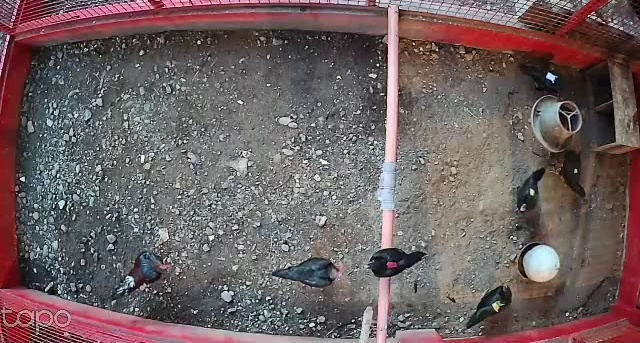Chicken: (546, 141, 590, 199), (364, 240, 426, 279), (465, 281, 514, 330), (519, 58, 564, 103), (507, 164, 545, 217)
Rooster: (114, 246, 173, 299)
Saddle_Color_Red: (386, 261, 395, 267)
Saddle_Color_White: (544, 71, 558, 85)
Saddle_Color_Yellow: (528, 187, 535, 196)
Saddle_Color_YellowGreen: (491, 300, 504, 312)
